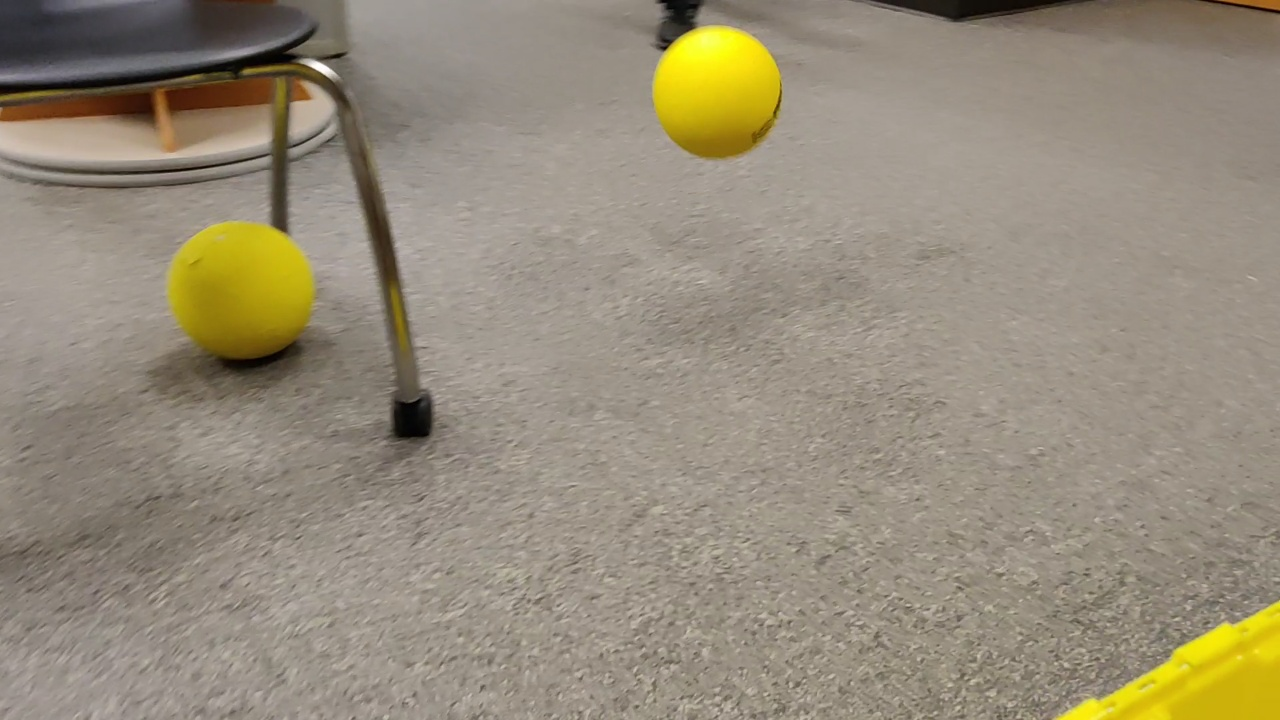Ball: (163, 217, 324, 371), (645, 23, 788, 164)
